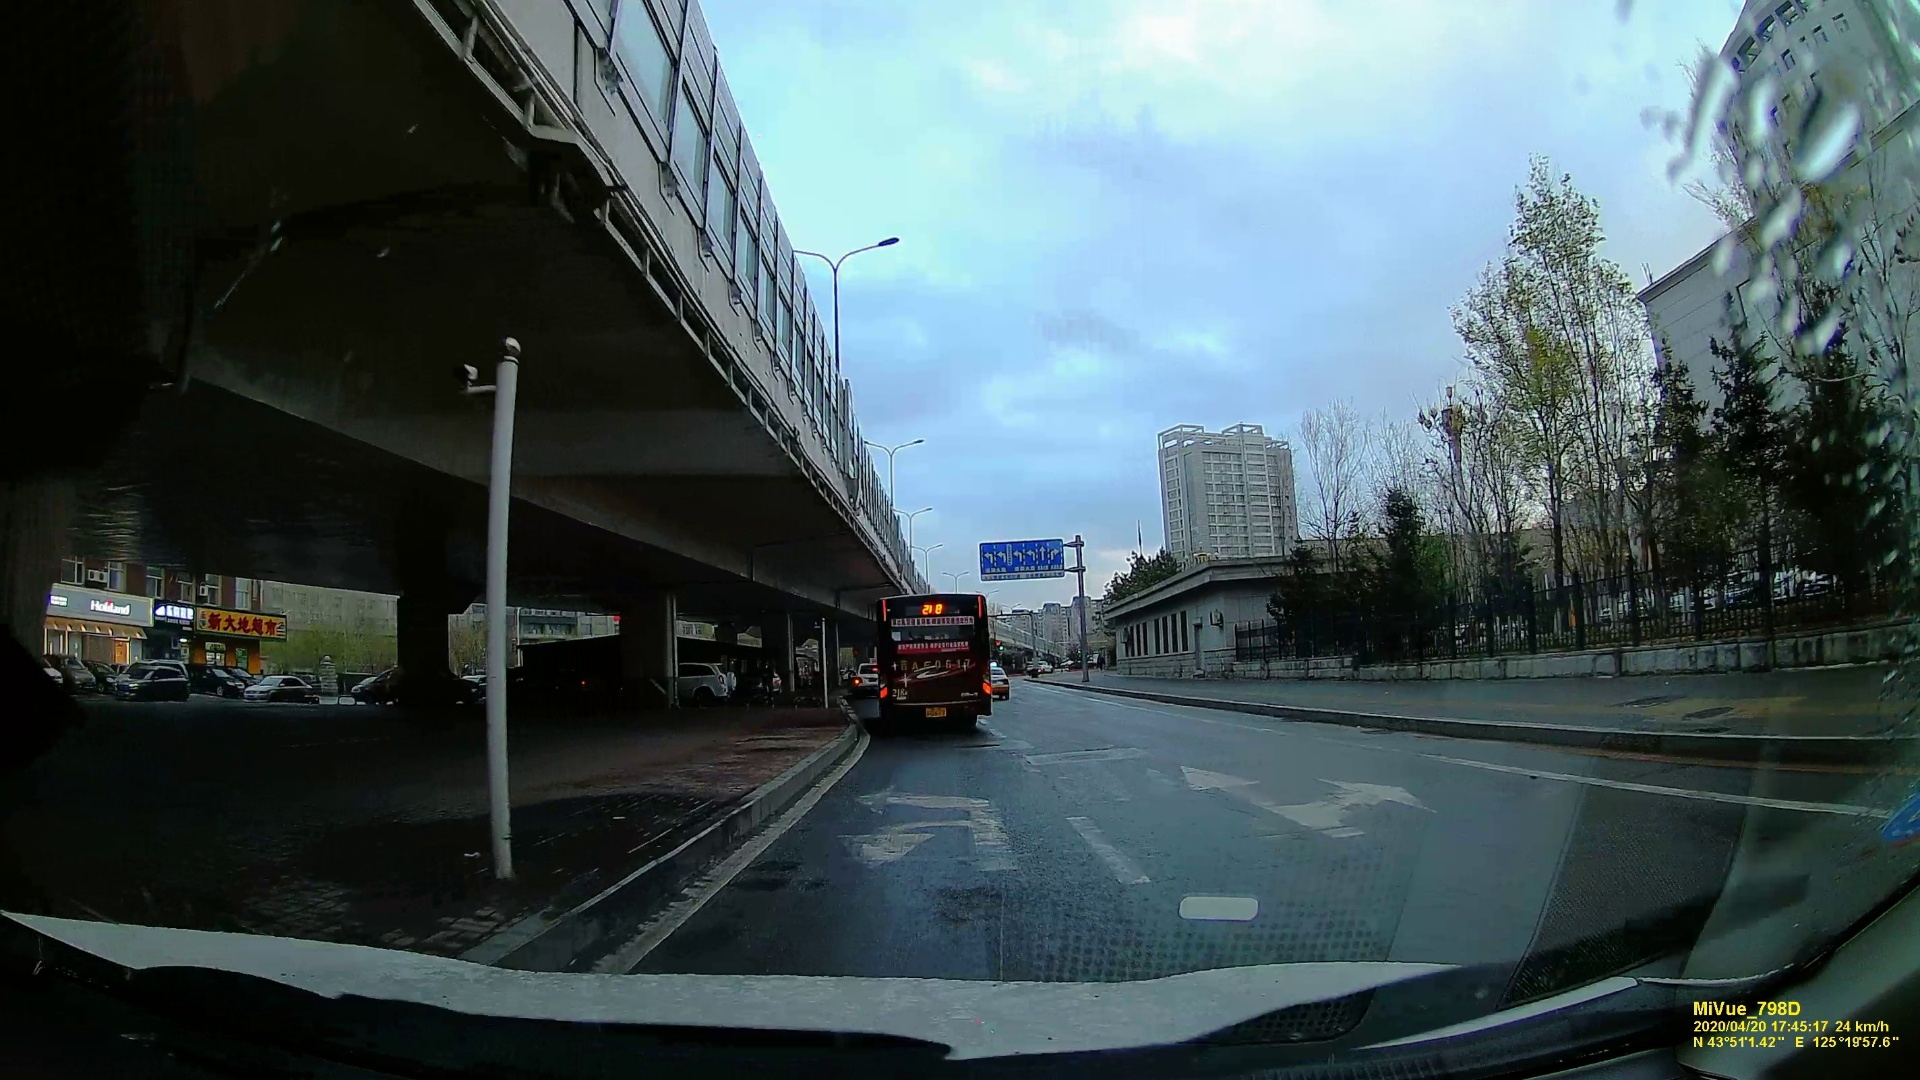bus: (877, 597, 986, 731)
traffic_sign: (980, 541, 1058, 578)
vehicle: (108, 658, 190, 702), (853, 661, 881, 694)
